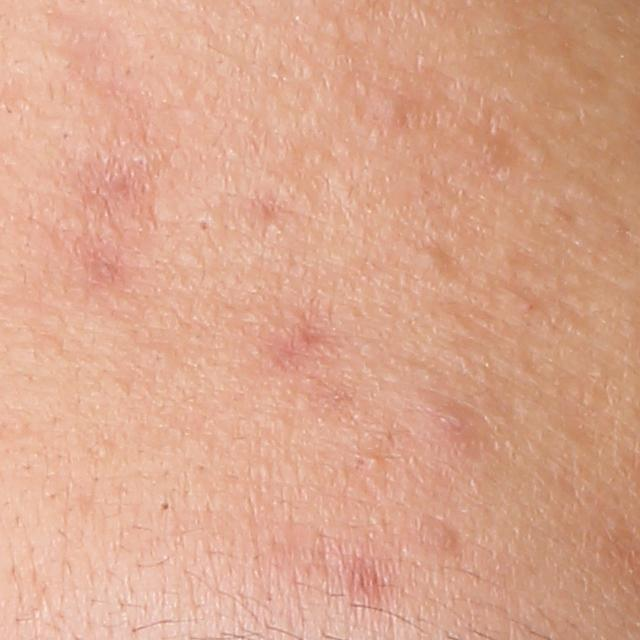comedo: (410, 248, 453, 279), (521, 135, 556, 167), (193, 209, 224, 236), (366, 453, 385, 471), (157, 497, 175, 513)
